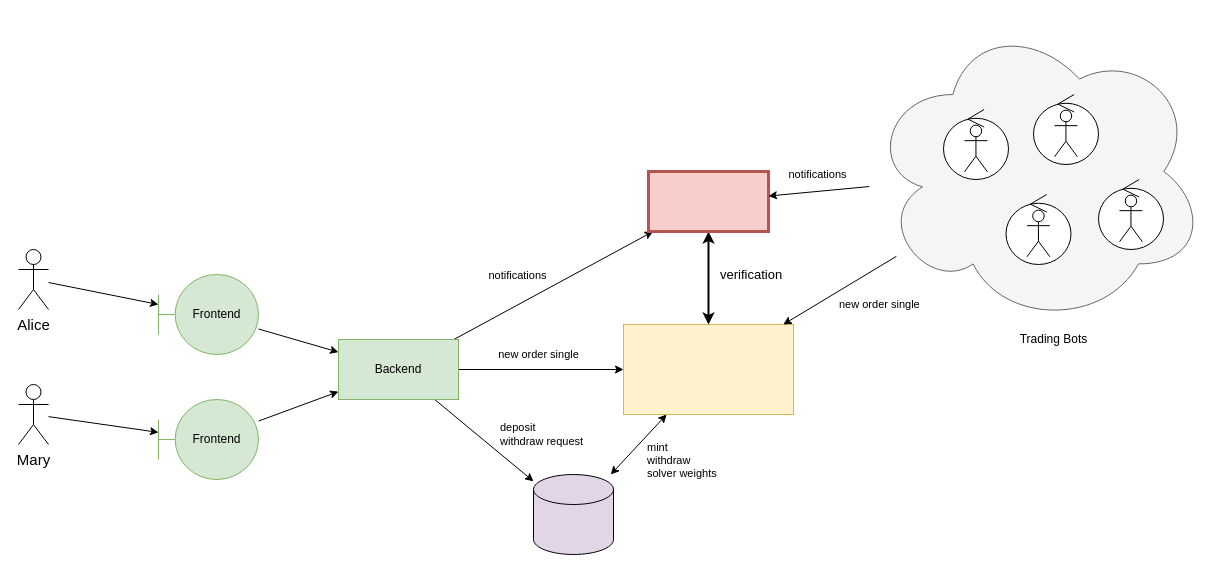
Image size: 1224x572. Some labels were removed from this diagram. The box of each missing label's shape, as (x1, y1, x2, y2) in pixels:
Blockchain: (532, 474, 614, 554)
Guardian: (646, 170, 770, 232)
Index Maker: (622, 324, 794, 414)
